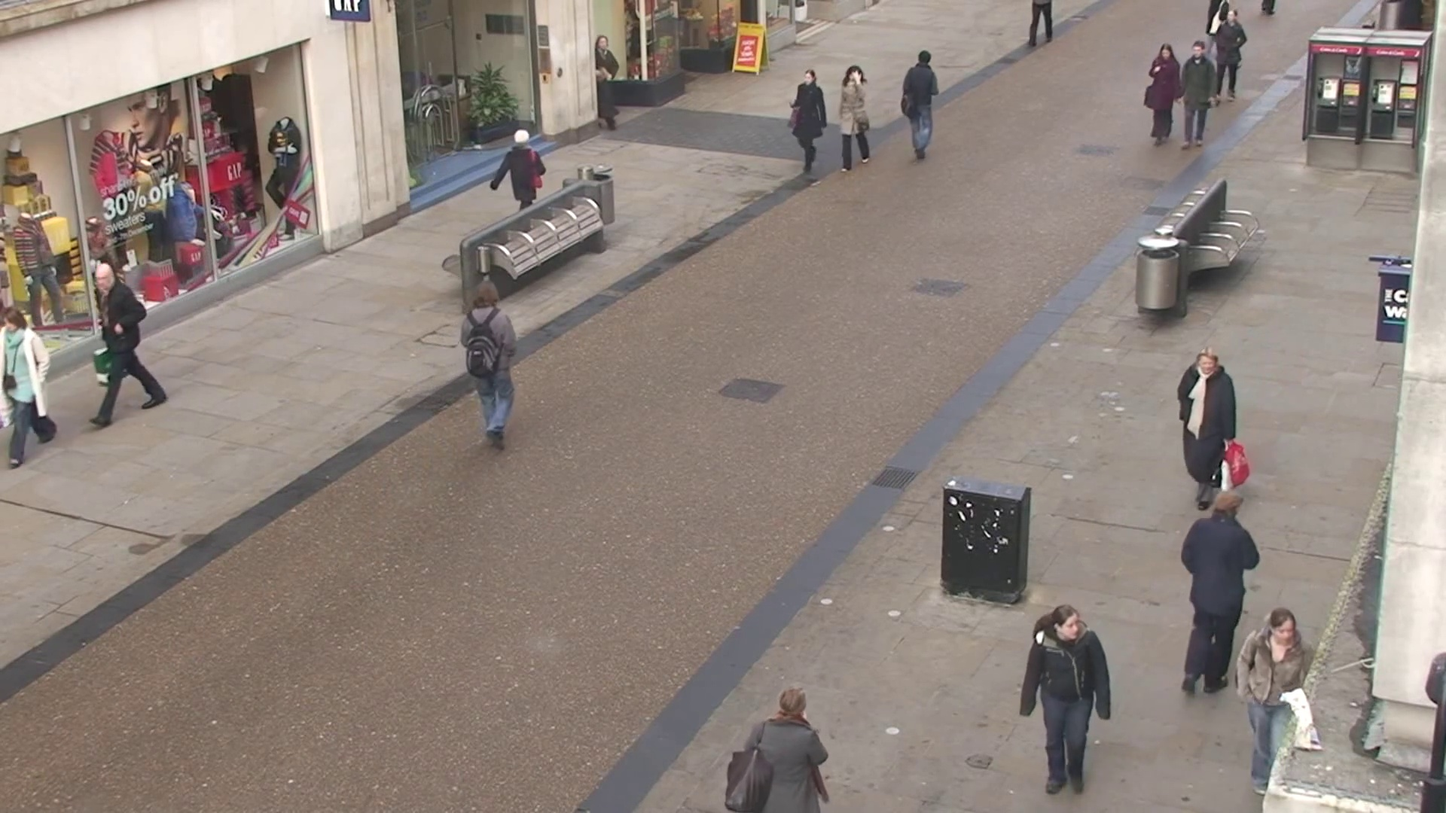person: (1019, 604, 1112, 799), (1179, 485, 1261, 698), (1237, 606, 1319, 800), (89, 258, 169, 430), (730, 678, 831, 813), (1178, 347, 1238, 507), (462, 280, 519, 448), (0, 298, 52, 469), (999, 0, 1076, 61), (900, 48, 939, 161), (789, 69, 829, 179), (498, 127, 549, 211), (1180, 41, 1217, 145), (1144, 44, 1181, 146), (837, 65, 872, 169), (1212, 5, 1249, 99)
